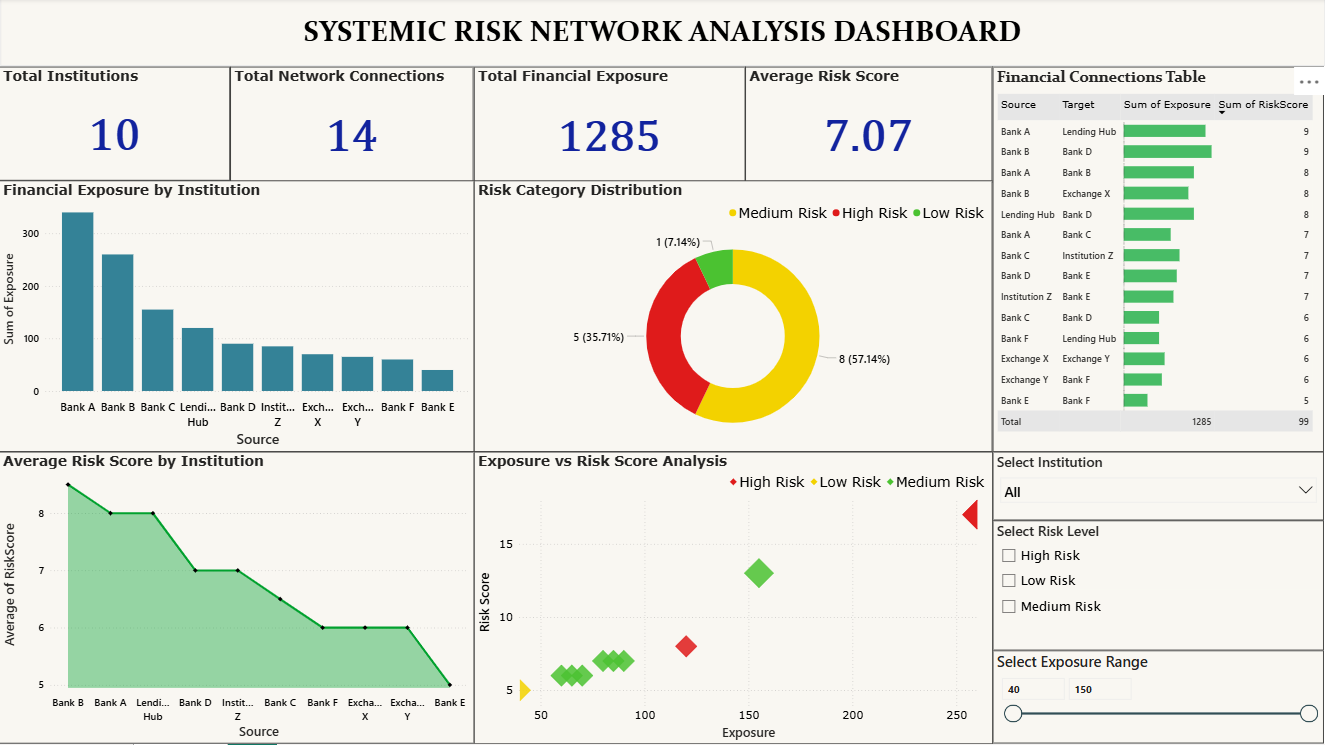

The dashboard page shown, as its layout file describes it:
{"tool":"powerbi","page":{"name":"Page 1","canvas":[1920,1080],"ordinal":0},"visuals":[{"type":"card","title":"Total  Network Connections","fields":{"Values":["CountNonNull(systemic_risk_dataset.Total Connections)"]},"box":[335.7,99,352.2,166.9],"z":0},{"type":"card","title":"Total Financial Exposure","fields":{"Values":["Sum(systemic_risk_dataset.Exposure)"]},"box":[687.8,99,392.5,166.9],"z":1000},{"type":"card","title":"Average Risk Score","fields":{"Values":["Avg(systemic_risk_dataset.RiskScore)"]},"box":[1080.4,99,357.7,166.9],"z":2000},{"type":"tableEx","title":"Financial Connections Table","fields":{"Values":["systemic_risk_dataset.Source","systemic_risk_dataset.Target","Sum(systemic_risk_dataset.Exposure)","Sum(systemic_risk_dataset.RiskScore)"]},"box":[1438.7,99.5,479.6,557.4],"z":3000},{"type":"areaChart","title":" Average Risk Score by Institution","fields":{"Category":["systemic_risk_dataset.Source"],"Y":["Avg(systemic_risk_dataset.RiskScore)"]},"box":[0,657.1,687.8,422.4],"z":4000},{"type":"clusteredColumnChart","title":"Financial Exposure by Institution","fields":{"Category":["systemic_risk_dataset.Source"],"Y":["Sum(systemic_risk_dataset.Exposure)"]},"box":[0,264.1,687.8,392.5],"z":5000},{"type":"card","title":"Total Institutions","fields":{"Values":["Count(systemic_risk_dataset.Source)"]},"box":[0,99.5,334.8,164.7],"z":6000},{"type":"slicer","title":"Select Institution","fields":{"Values":["systemic_risk_dataset.Source"]},"box":[1438.7,656.9,479.6,99.5],"z":7000},{"type":"slicer","title":"Select Risk Level","fields":{"Values":["systemic_risk_dataset.Risk Category"]},"box":[1438.7,756.4,479.6,188.2],"z":8000},{"type":"slicer","title":"Select Exposure Range","fields":{"Values":["systemic_risk_dataset.Exposure"]},"box":[1438.8,944.9,479.6,134.7],"z":9000},{"type":"scatterChart","title":"Exposure vs Risk Score Analysis","fields":{"Category":["systemic_risk_dataset.Source"],"X":["Sum(systemic_risk_dataset.Exposure)"],"Y":["Sum(systemic_risk_dataset.RiskScore)"],"Series":["systemic_risk_dataset.Risk Category"],"Size":["CountNonNull(systemic_risk_dataset.Target)"]},"box":[687.7,656.9,751,423.5],"z":10000},{"type":"donutChart","title":"Risk Category Distribution","fields":{"Category":["systemic_risk_dataset.Risk Category"],"Y":["CountNonNull(systemic_risk_dataset.RiskScore)"]},"box":[687.8,264.1,750.2,392.5],"z":11000},{"type":"textbox","box":[1.8,0,1918.2,97.7],"z":12000}]}

Visuals, with their boxes in screenshot pixels (x1, y1, x2, y2), scaled from the page's 1920x1080 canvas onto the 1325x745 screenshot:
"Total  Network Connections" card: bbox(232, 68, 475, 183)
"Total Financial Exposure" card: bbox(475, 68, 746, 183)
"Average Risk Score" card: bbox(746, 68, 992, 183)
"Financial Connections Table" tableEx: bbox(993, 69, 1324, 453)
" Average Risk Score by Institution" areaChart: bbox(0, 453, 475, 744)
"Financial Exposure by Institution" clusteredColumnChart: bbox(0, 182, 475, 453)
"Total Institutions" card: bbox(0, 69, 231, 182)
"Select Institution" slicer: bbox(993, 453, 1324, 522)
"Select Risk Level" slicer: bbox(993, 522, 1324, 652)
"Select Exposure Range" slicer: bbox(993, 652, 1324, 744)
"Exposure vs Risk Score Analysis" scatterChart: bbox(475, 453, 993, 744)
"Risk Category Distribution" donutChart: bbox(475, 182, 992, 453)
textbox: bbox(1, 0, 1324, 67)
